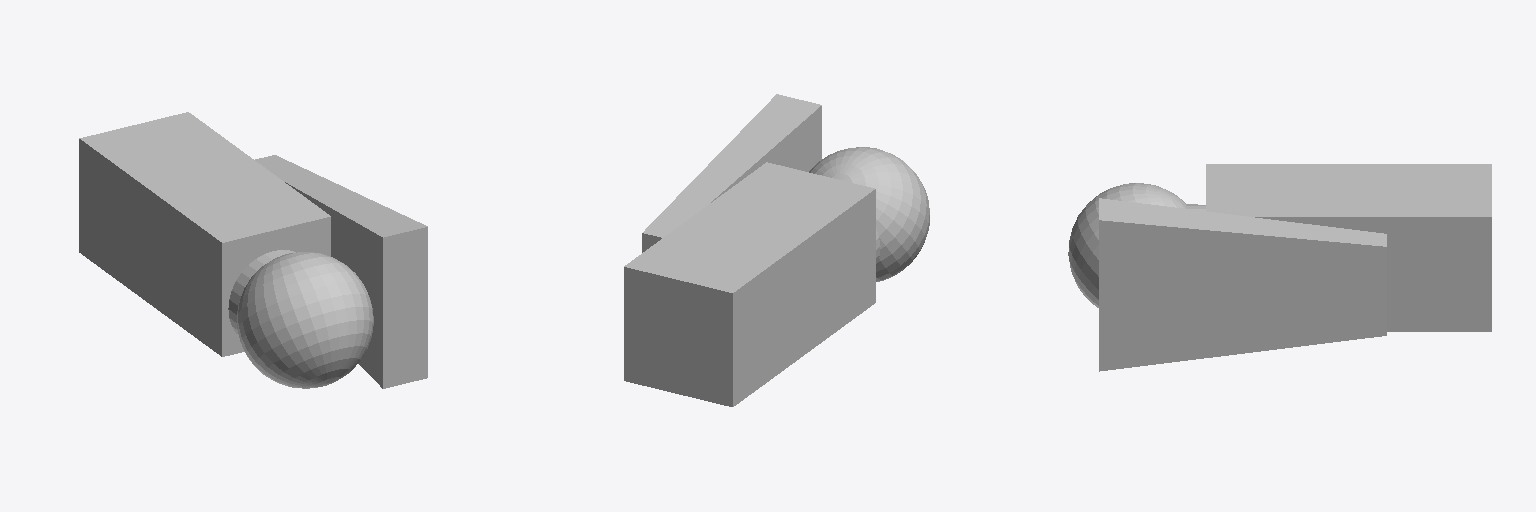
File: ArmLower.obj
The picture shows the model from 3 angles: view 1: azimuth 30°, elevation 25°; view 2: azimuth 150°, elevation 25°; view 3: azimuth 270°, elevation 25°; orthographic projection.
Visible parts, largest first — view 1: ArmLower; view 2: ArmLower; view 3: ArmLower.
Boxes of the visible parts, box(x1,y1,x2,y2) form: ArmLower: box(79, 112, 427, 388); ArmLower: box(624, 94, 929, 406); ArmLower: box(1068, 164, 1491, 371).
Size of the model in its own units: 0.4435 by 0.3925 by 0.994.